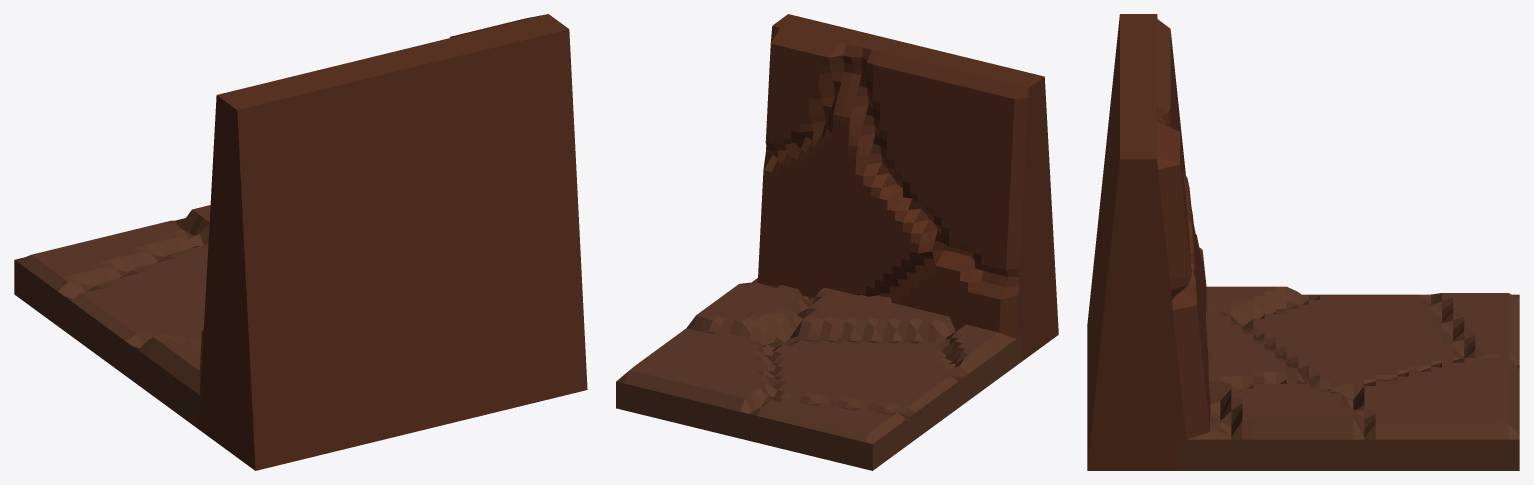
File: floor_wall.obj
The picture shows the model from 3 angles, left to right: view 1: azimuth 30°, elevation 25°; view 2: azimuth 150°, elevation 25°; view 3: azimuth 270°, elevation 25°; orthographic projection. The views are drawn at different scales.
Parts seen in each view (by area): view 1: Wall, Floor; view 2: Wall, Floor; view 3: Floor, Wall.
Boxes of the visible parts, x1,y1,x2,y2 form: Wall: (198, 14, 587, 470); Floor: (14, 205, 210, 429); Wall: (757, 14, 1058, 362); Floor: (616, 278, 1020, 470); Floor: (1175, 286, 1519, 470); Wall: (1087, 14, 1210, 470).
Bounding box in the file's own units: 2 × 2 × 2.51.
